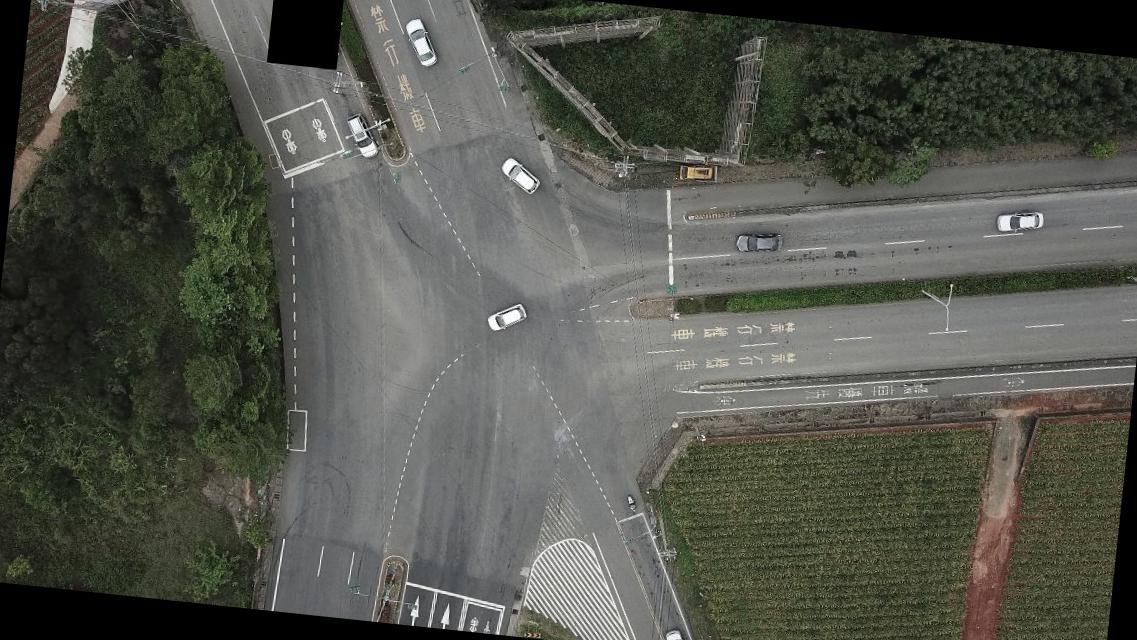vehicle: (400, 16, 440, 68), (496, 157, 542, 197), (343, 112, 380, 159), (995, 205, 1046, 235), (736, 226, 786, 255), (486, 300, 528, 334), (676, 162, 714, 184), (660, 627, 690, 639)
